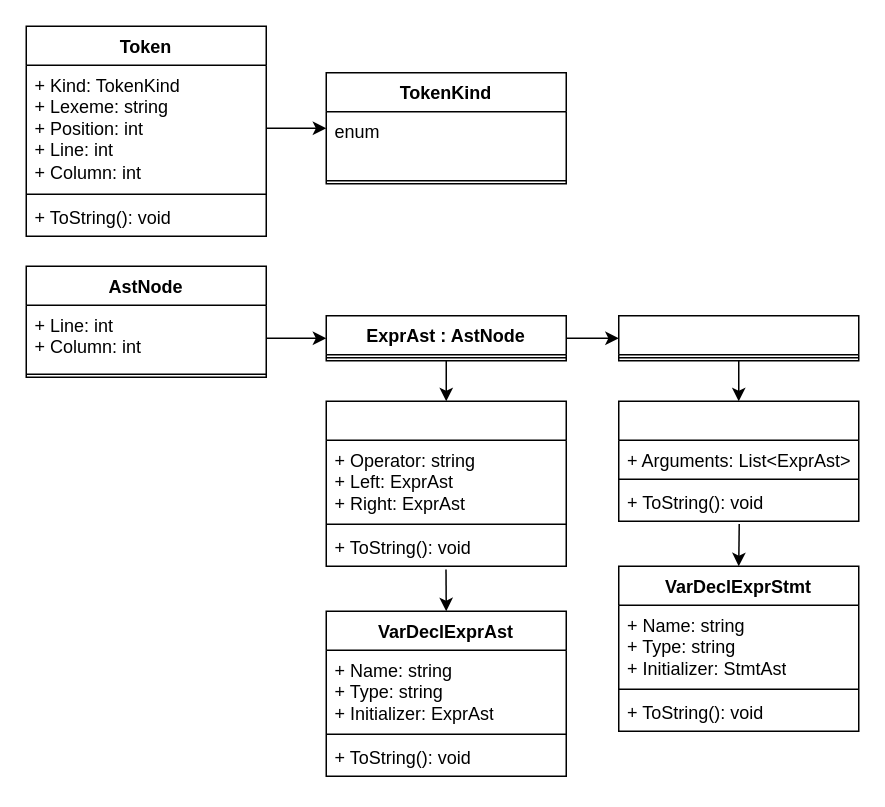
Image size: 885x807. Some labels were removed from this diagram. Here are the shapes that lost their labels. From the top down, the box of each, then its label:
(617, 314, 859, 361): StmtAst : AstNode
(617, 400, 859, 521): PrintStmt
(325, 400, 566, 566): BinaryExprAst
